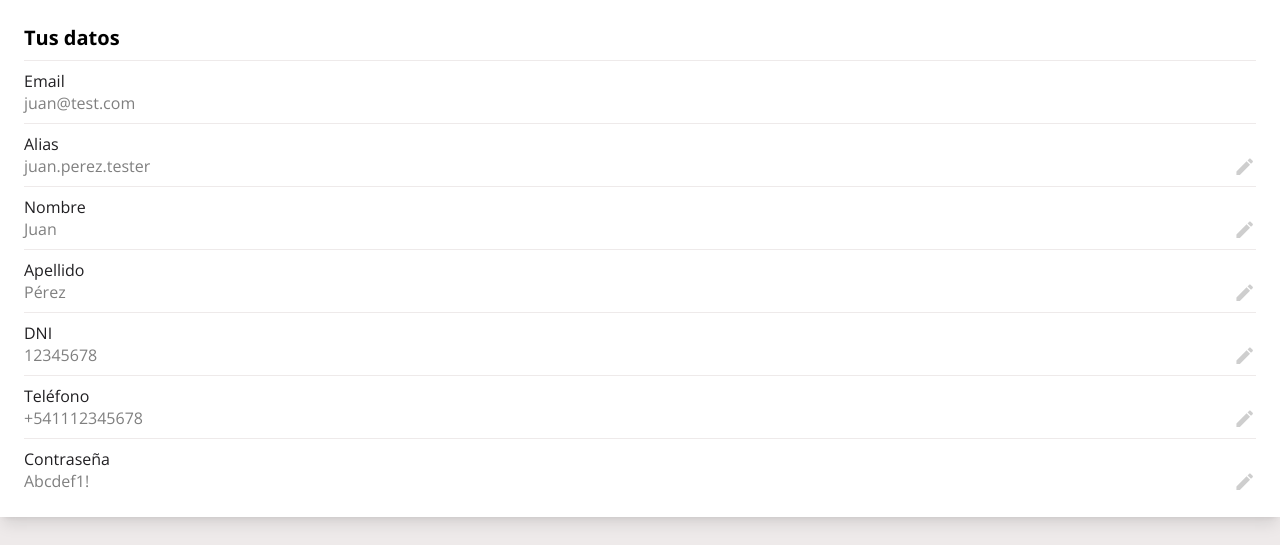
PersonalInfo › al cancelar, el valor vuelve al original
Click the button without text in the row of "juan.perez.tester" at (1245, 167), box x1=1234 y1=156 x2=1256 y2=178
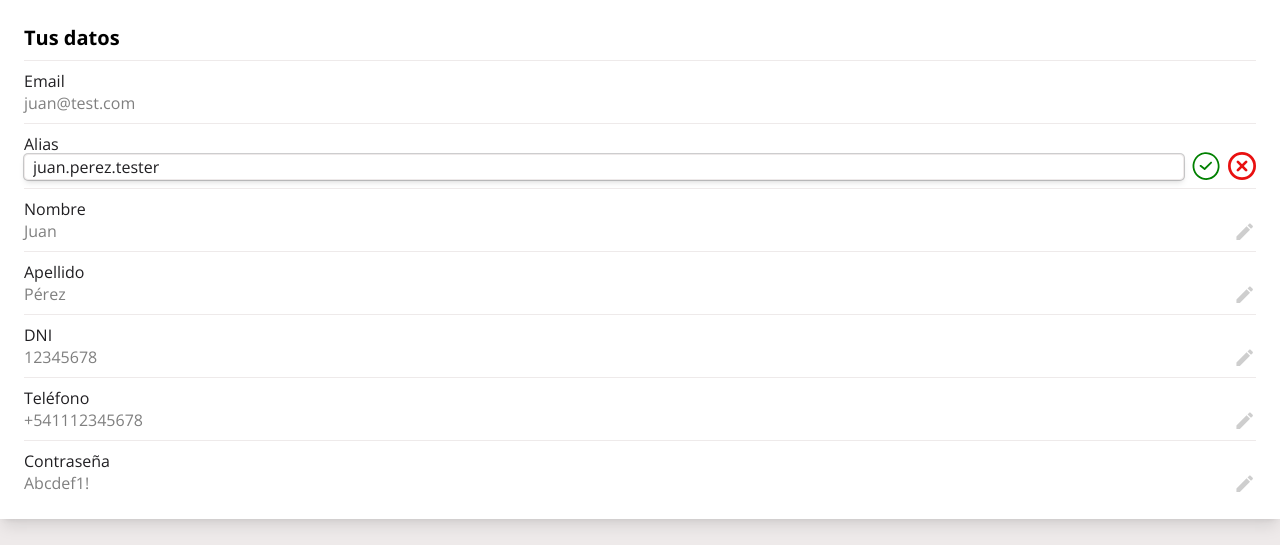
Replace the text in the field showing "juan.perez.tester" with "otro.alias.tester" at (604, 167), box x1=24 y1=154 x2=1184 y2=180
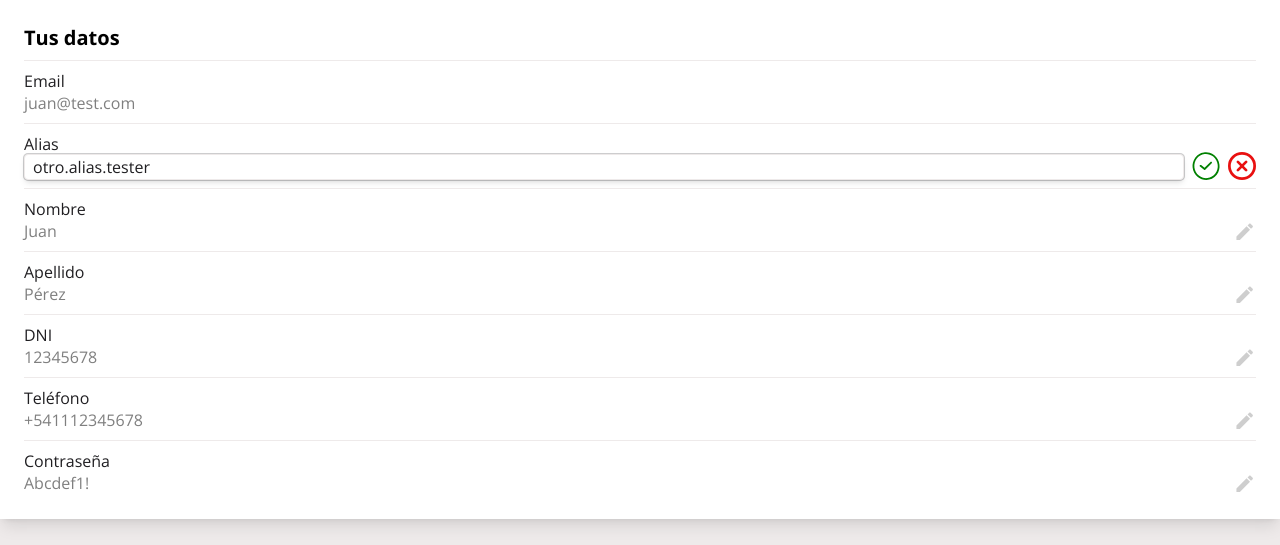
Click the 2nd button at (1242, 166), box x1=1228 y1=152 x2=1256 y2=180
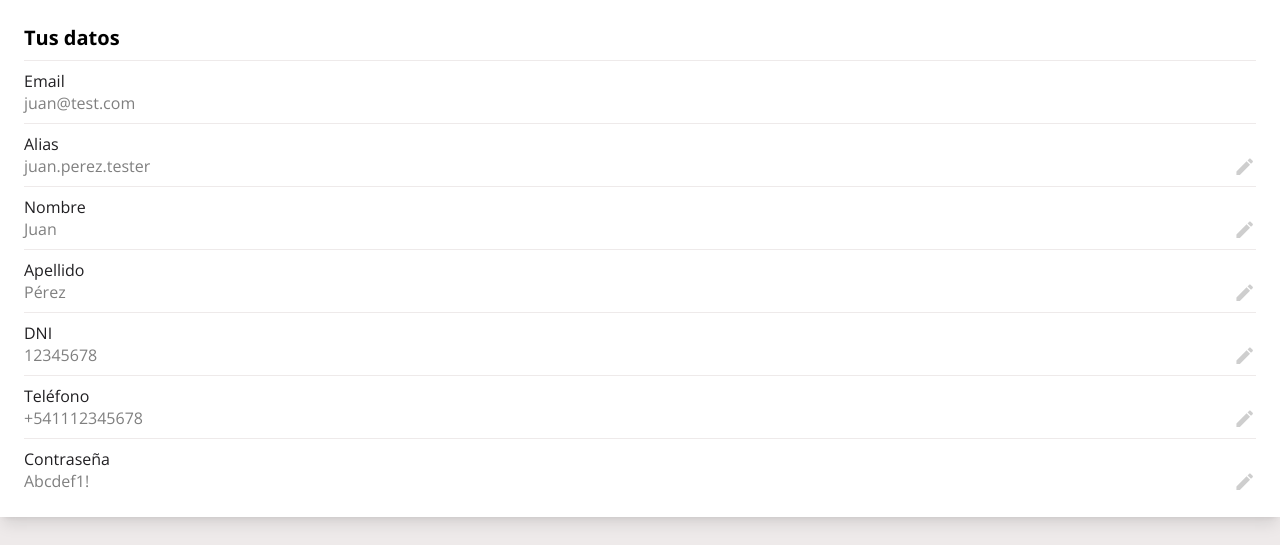
Check: the text "juan.perez.tester" is shown, box x1=24 y1=155 x2=150 y2=177
